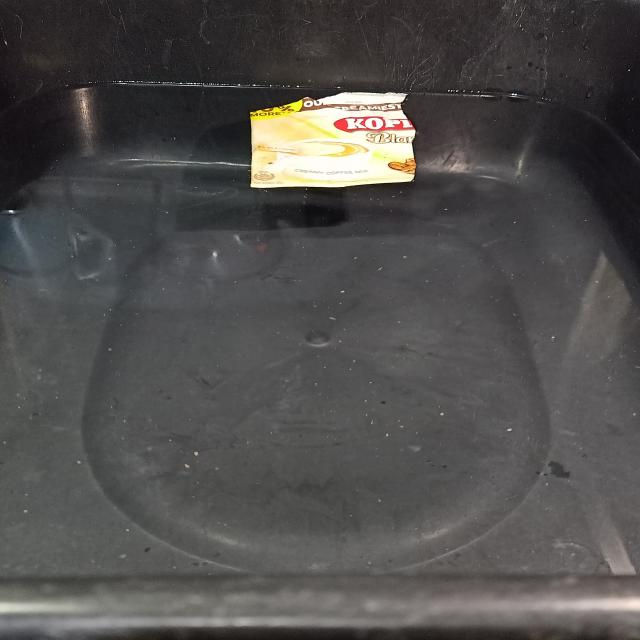Plastic Wrapper: (250, 92, 416, 188)
